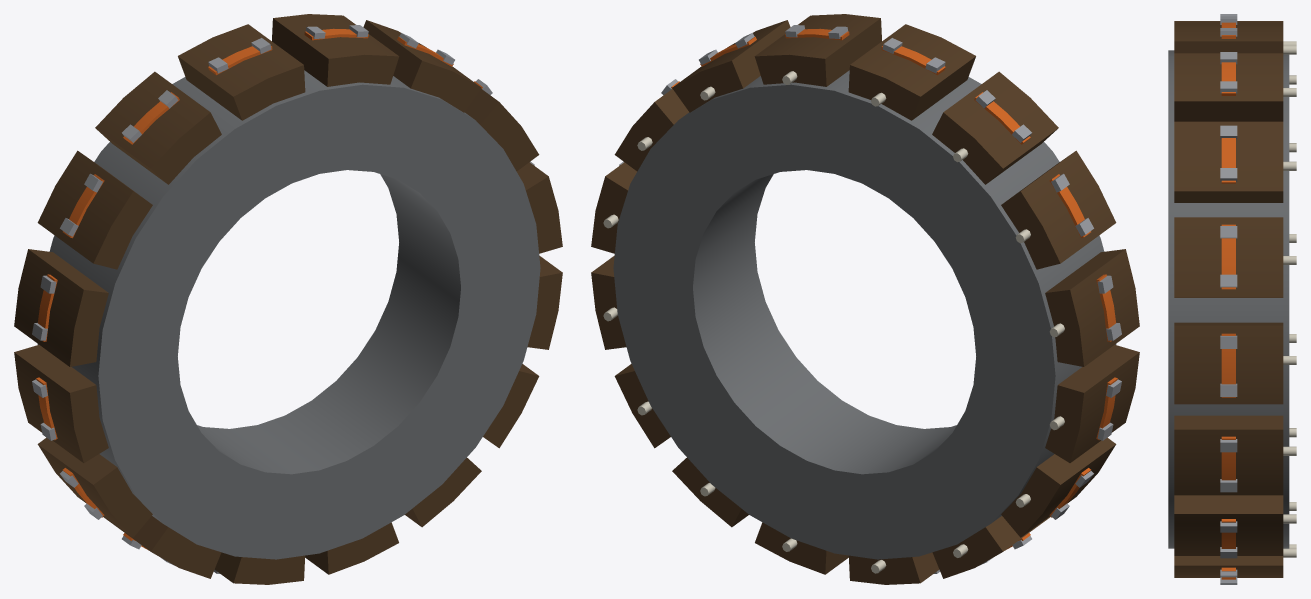
The model's file is u73l_coil_ring.obj.
The picture shows the model from 3 angles, left to right: view 1: azimuth 30°, elevation 25°; view 2: azimuth 150°, elevation 25°; view 3: azimuth 270°, elevation 25°; orthographic projection. The views are drawn at different scales.
Parts seen in each view (by area): view 1: u73l_coil_ring; view 2: u73l_coil_ring; view 3: u73l_coil_ring.
Part boxes in pixels (x1,y1,x2,y2): u73l_coil_ring: (14, 14, 562, 584); u73l_coil_ring: (591, 14, 1139, 584); u73l_coil_ring: (1168, 14, 1296, 584).
Bounding box in the file's own units: 4.7 × 4.7 × 1.06.
